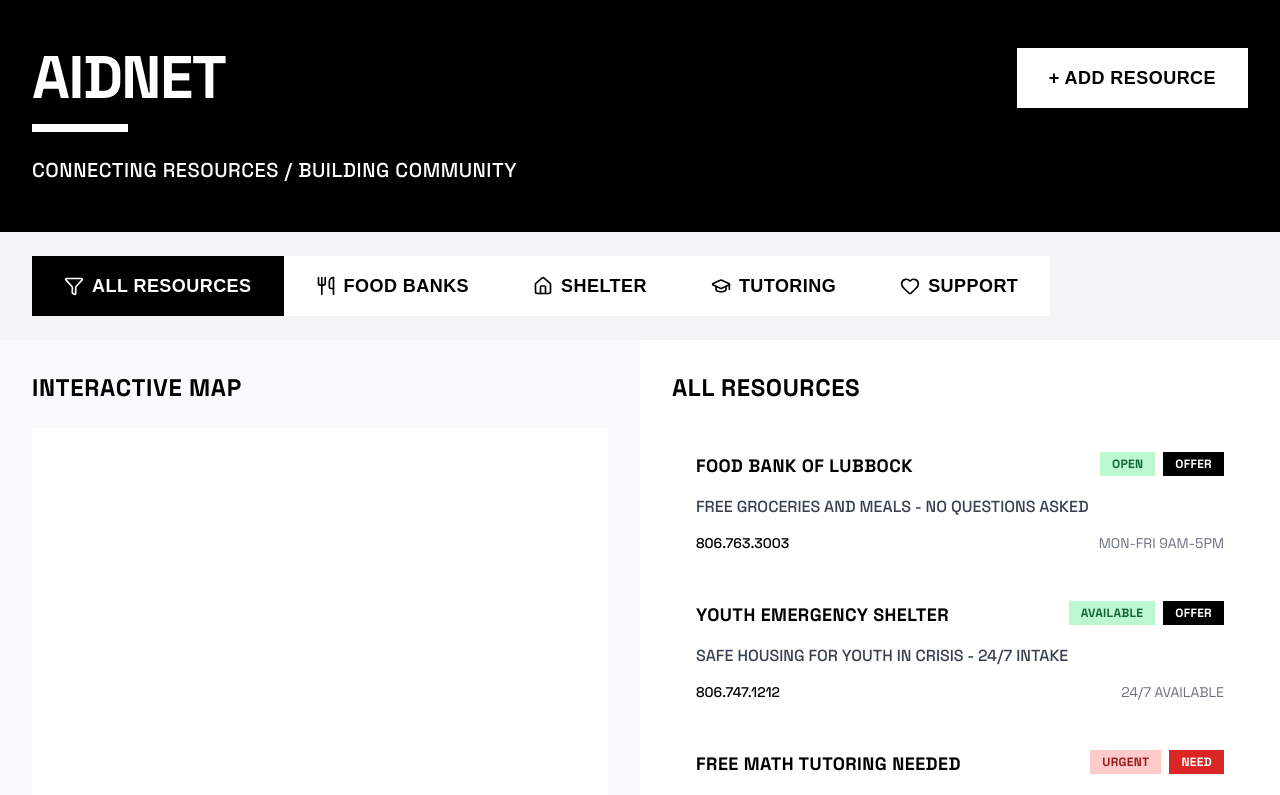
Test: AIDNET Application › filters resources by category
Note: Click FOOD BANKS category
Click the button "FOOD BANKS" at (392, 286), box top-left (284, 256), bottom-right (501, 316)
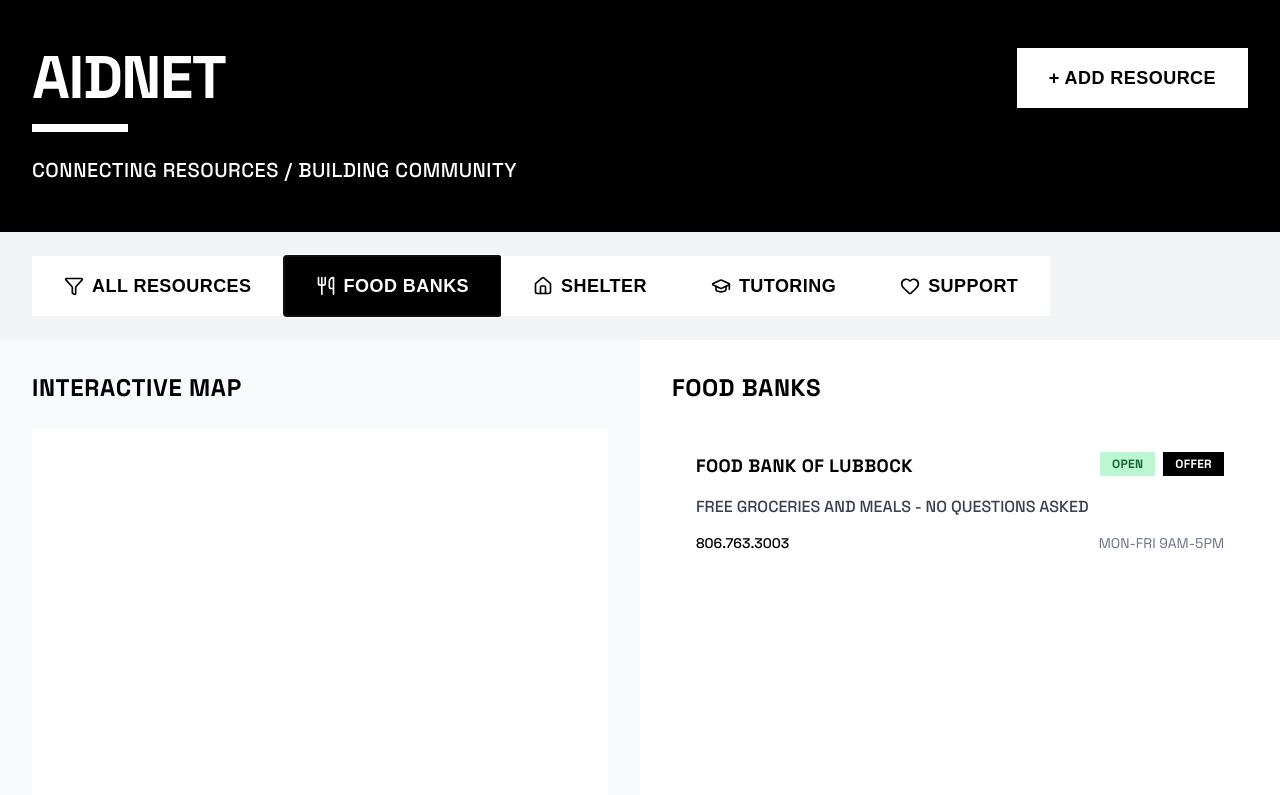
expect the heading "FOOD BANK OF LUBBOCK" is shown: met, box top-left (696, 452), bottom-right (913, 480)
expect the heading "YOUTH EMERGENCY SHELTER" is gone: met
